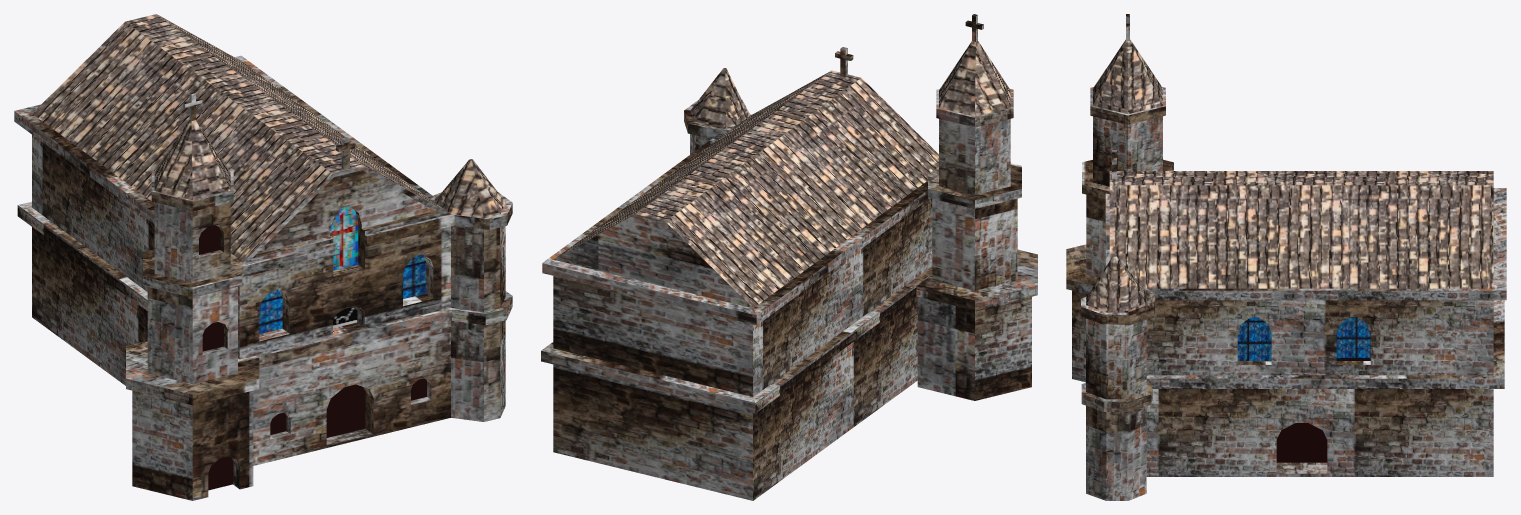
The model's file is Church.fbx.
3 renders of one model, left to right at view 1: azimuth 30°, elevation 25°; view 2: azimuth 150°, elevation 25°; view 3: azimuth 270°, elevation 25°, orthographic. The views are drawn at different scales.
Visible parts, largest first — view 1: Church.001; view 2: Church.001; view 3: Church.001.
Boxes of the visible parts, x1,y1,x2,y2 form: Church.001: (14, 14, 512, 500); Church.001: (541, 14, 1037, 500); Church.001: (1066, 14, 1506, 500).
Size of the model in its own units: 618 by 682 by 598.
